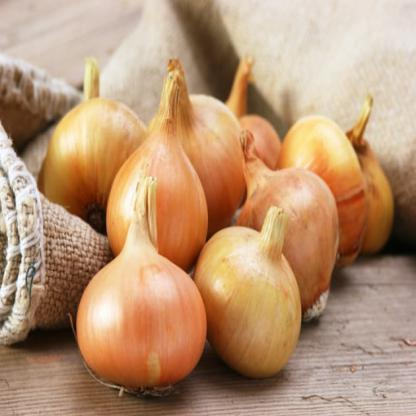onion: (60, 231, 227, 376), (231, 142, 348, 292), (203, 219, 310, 360), (54, 88, 147, 218), (157, 86, 246, 212), (112, 131, 204, 250)
